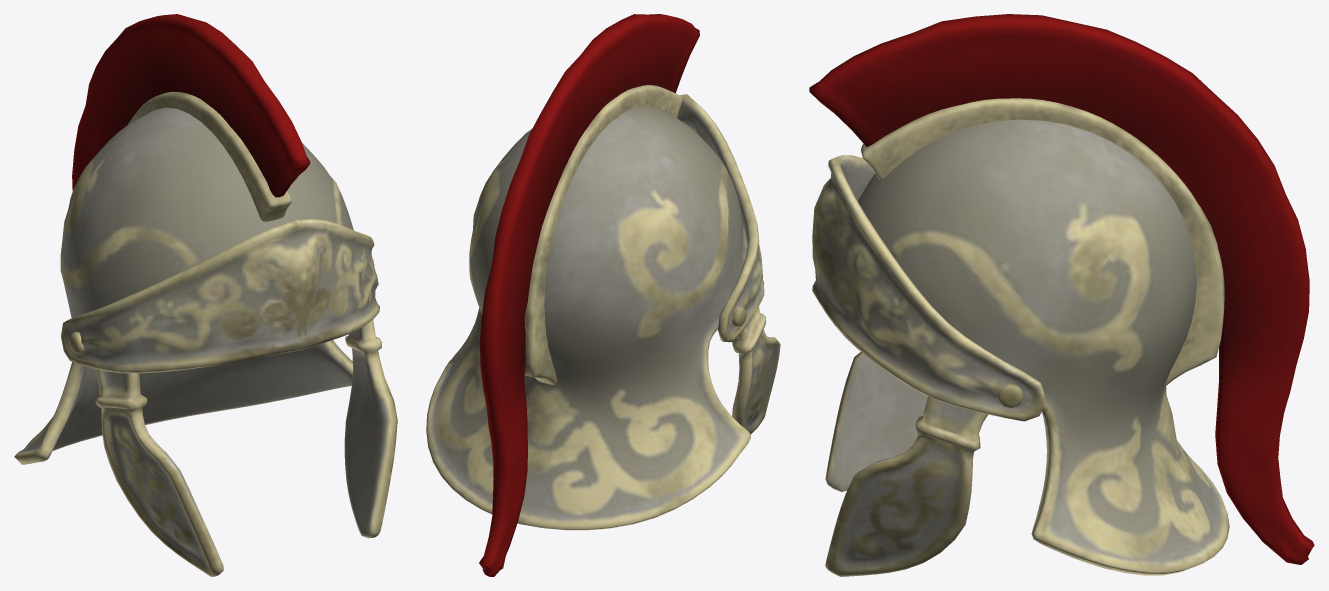
The model's file is roman-6d187d4b7f8c.glb.
3 renders of one model, left to right at view 1: azimuth 30°, elevation 25°; view 2: azimuth 150°, elevation 25°; view 3: azimuth 270°, elevation 25°, orthographic. The views are drawn at different scales.
Visible parts, largest first — view 1: Casque_low, Visiere_low, Crin_low, Barre_low; view 2: Casque_low, Crin_low, Barre_low, Visiere_low; view 3: Casque_low, Crin_low, Visiere_low, Barre_low.
Boxes of the visible parts, x1,y1,x2,y2 form: Casque_low: (14, 107, 397, 576); Visiere_low: (61, 219, 379, 373); Crin_low: (72, 14, 310, 197); Barre_low: (128, 91, 291, 221); Casque_low: (426, 106, 780, 530); Crin_low: (479, 14, 699, 576); Barre_low: (524, 85, 682, 384); Visiere_low: (469, 94, 764, 342); Casque_low: (825, 119, 1229, 576); Crin_low: (809, 14, 1314, 564); Visiere_low: (812, 155, 1046, 421); Barre_low: (861, 98, 1224, 386).
Bounding box in the file's own units: 1.39 × 2 × 1.68.
1 material, 1 textured.
